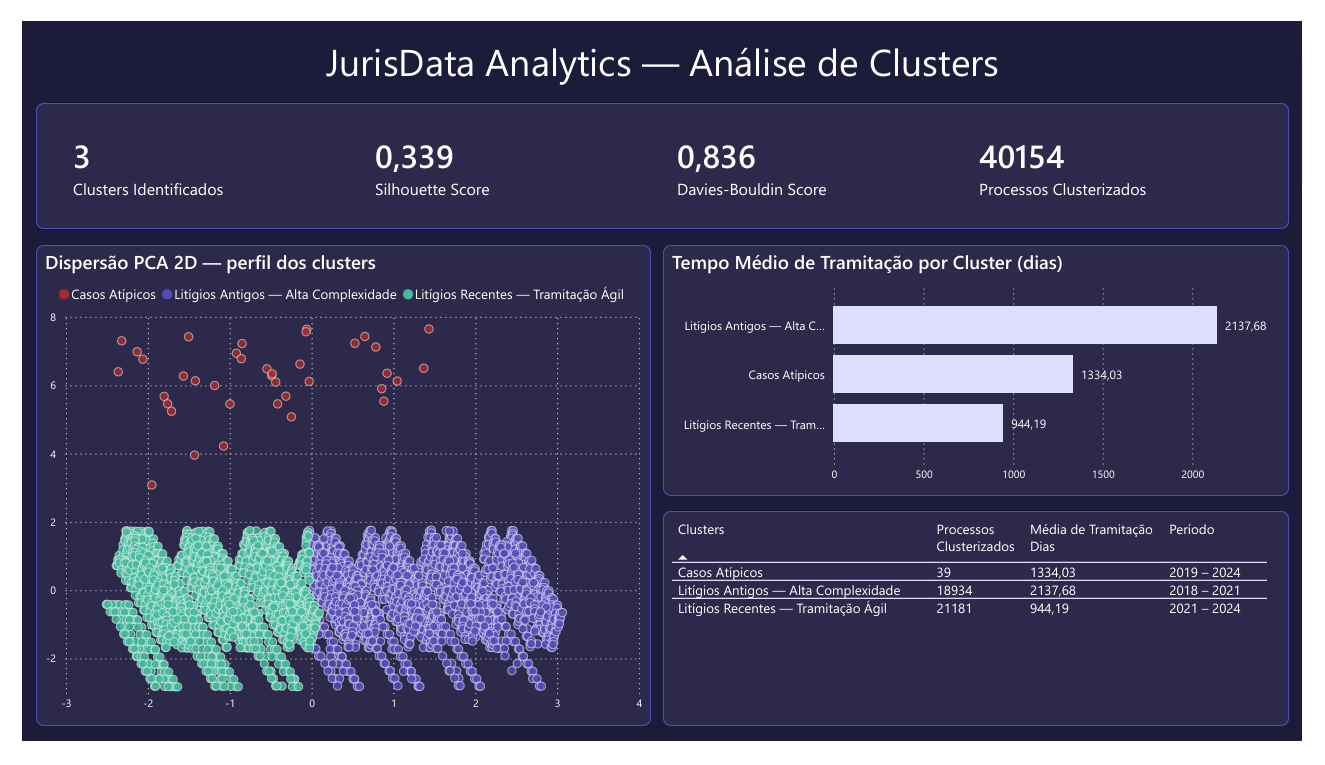

The page's visual inventory and layout, read from the dashboard file:
{"tool":"powerbi","page":{"name":"Cluster","canvas":[1280,720],"ordinal":1},"visuals":[{"type":"cardVisual","fields":{"Data":["Count(ml features_decisao.cluster_id)","ml features_decisao.Silhouette Score","ml features_decisao.Davies-Bouldin Score","CountNonNull(ml features_decisao.id)"]},"box":[13.3,81.1,1252.2,125.6],"z":0},{"type":"scatterChart","title":"Dispersão PCA 2D — perfil dos clusters","fields":{"X":["Sum(ml features_decisao.embedding_x)"],"Y":["Sum(ml features_decisao.embedding_y)"],"Series":["ml features_decisao.cluster_label"],"Category":["ml features_decisao.id"]},"box":[13.3,223.3,614.4,481.1],"z":1000},{"type":"barChart","title":"Tempo Médio de Tramitação por Cluster (dias)","fields":{"Category":["ml features_decisao.cluster_label"],"Y":["Avg(ml features_decisao.tempo_tramitacao_dias)"]},"box":[640,223.3,625.6,251.1],"z":2000},{"type":"tableEx","fields":{"Values":["ml features_decisao.cluster_label","CountNonNull(ml features_decisao.id)","Avg(ml features_decisao.tempo_tramitacao_dias)","ml features_decisao.Período"]},"box":[640,488.9,625.6,215.6],"z":3000},{"type":"textbox","box":[13.3,8.9,1252.2,68.9],"z":4000}]}

Visuals, with their boxes in screenshot pixels (x1, y1, x2, y2), scaled from the page's 1280x720 canvas onto the 1325x765 screenshot:
cardVisual - Count(ml features_decisao.cluster_id) x ml features_decisao.Silhouette Score: box=[14, 86, 1310, 220]
"Dispersão PCA 2D — perfil dos clusters" scatterChart: box=[14, 237, 650, 748]
"Tempo Médio de Tramitação por Cluster (dias)" barChart: box=[662, 237, 1310, 504]
tableEx - ml features_decisao.cluster_label x CountNonNull(ml features_decisao.id): box=[662, 519, 1310, 749]
textbox: box=[14, 9, 1310, 83]
